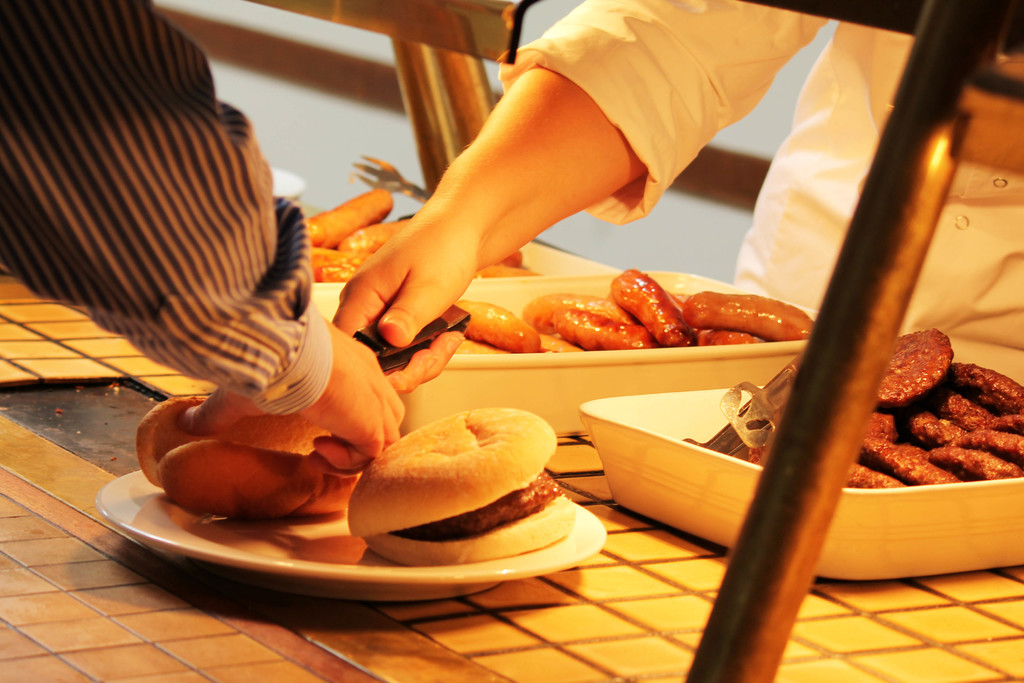Hamburger: (350, 401, 575, 564)
